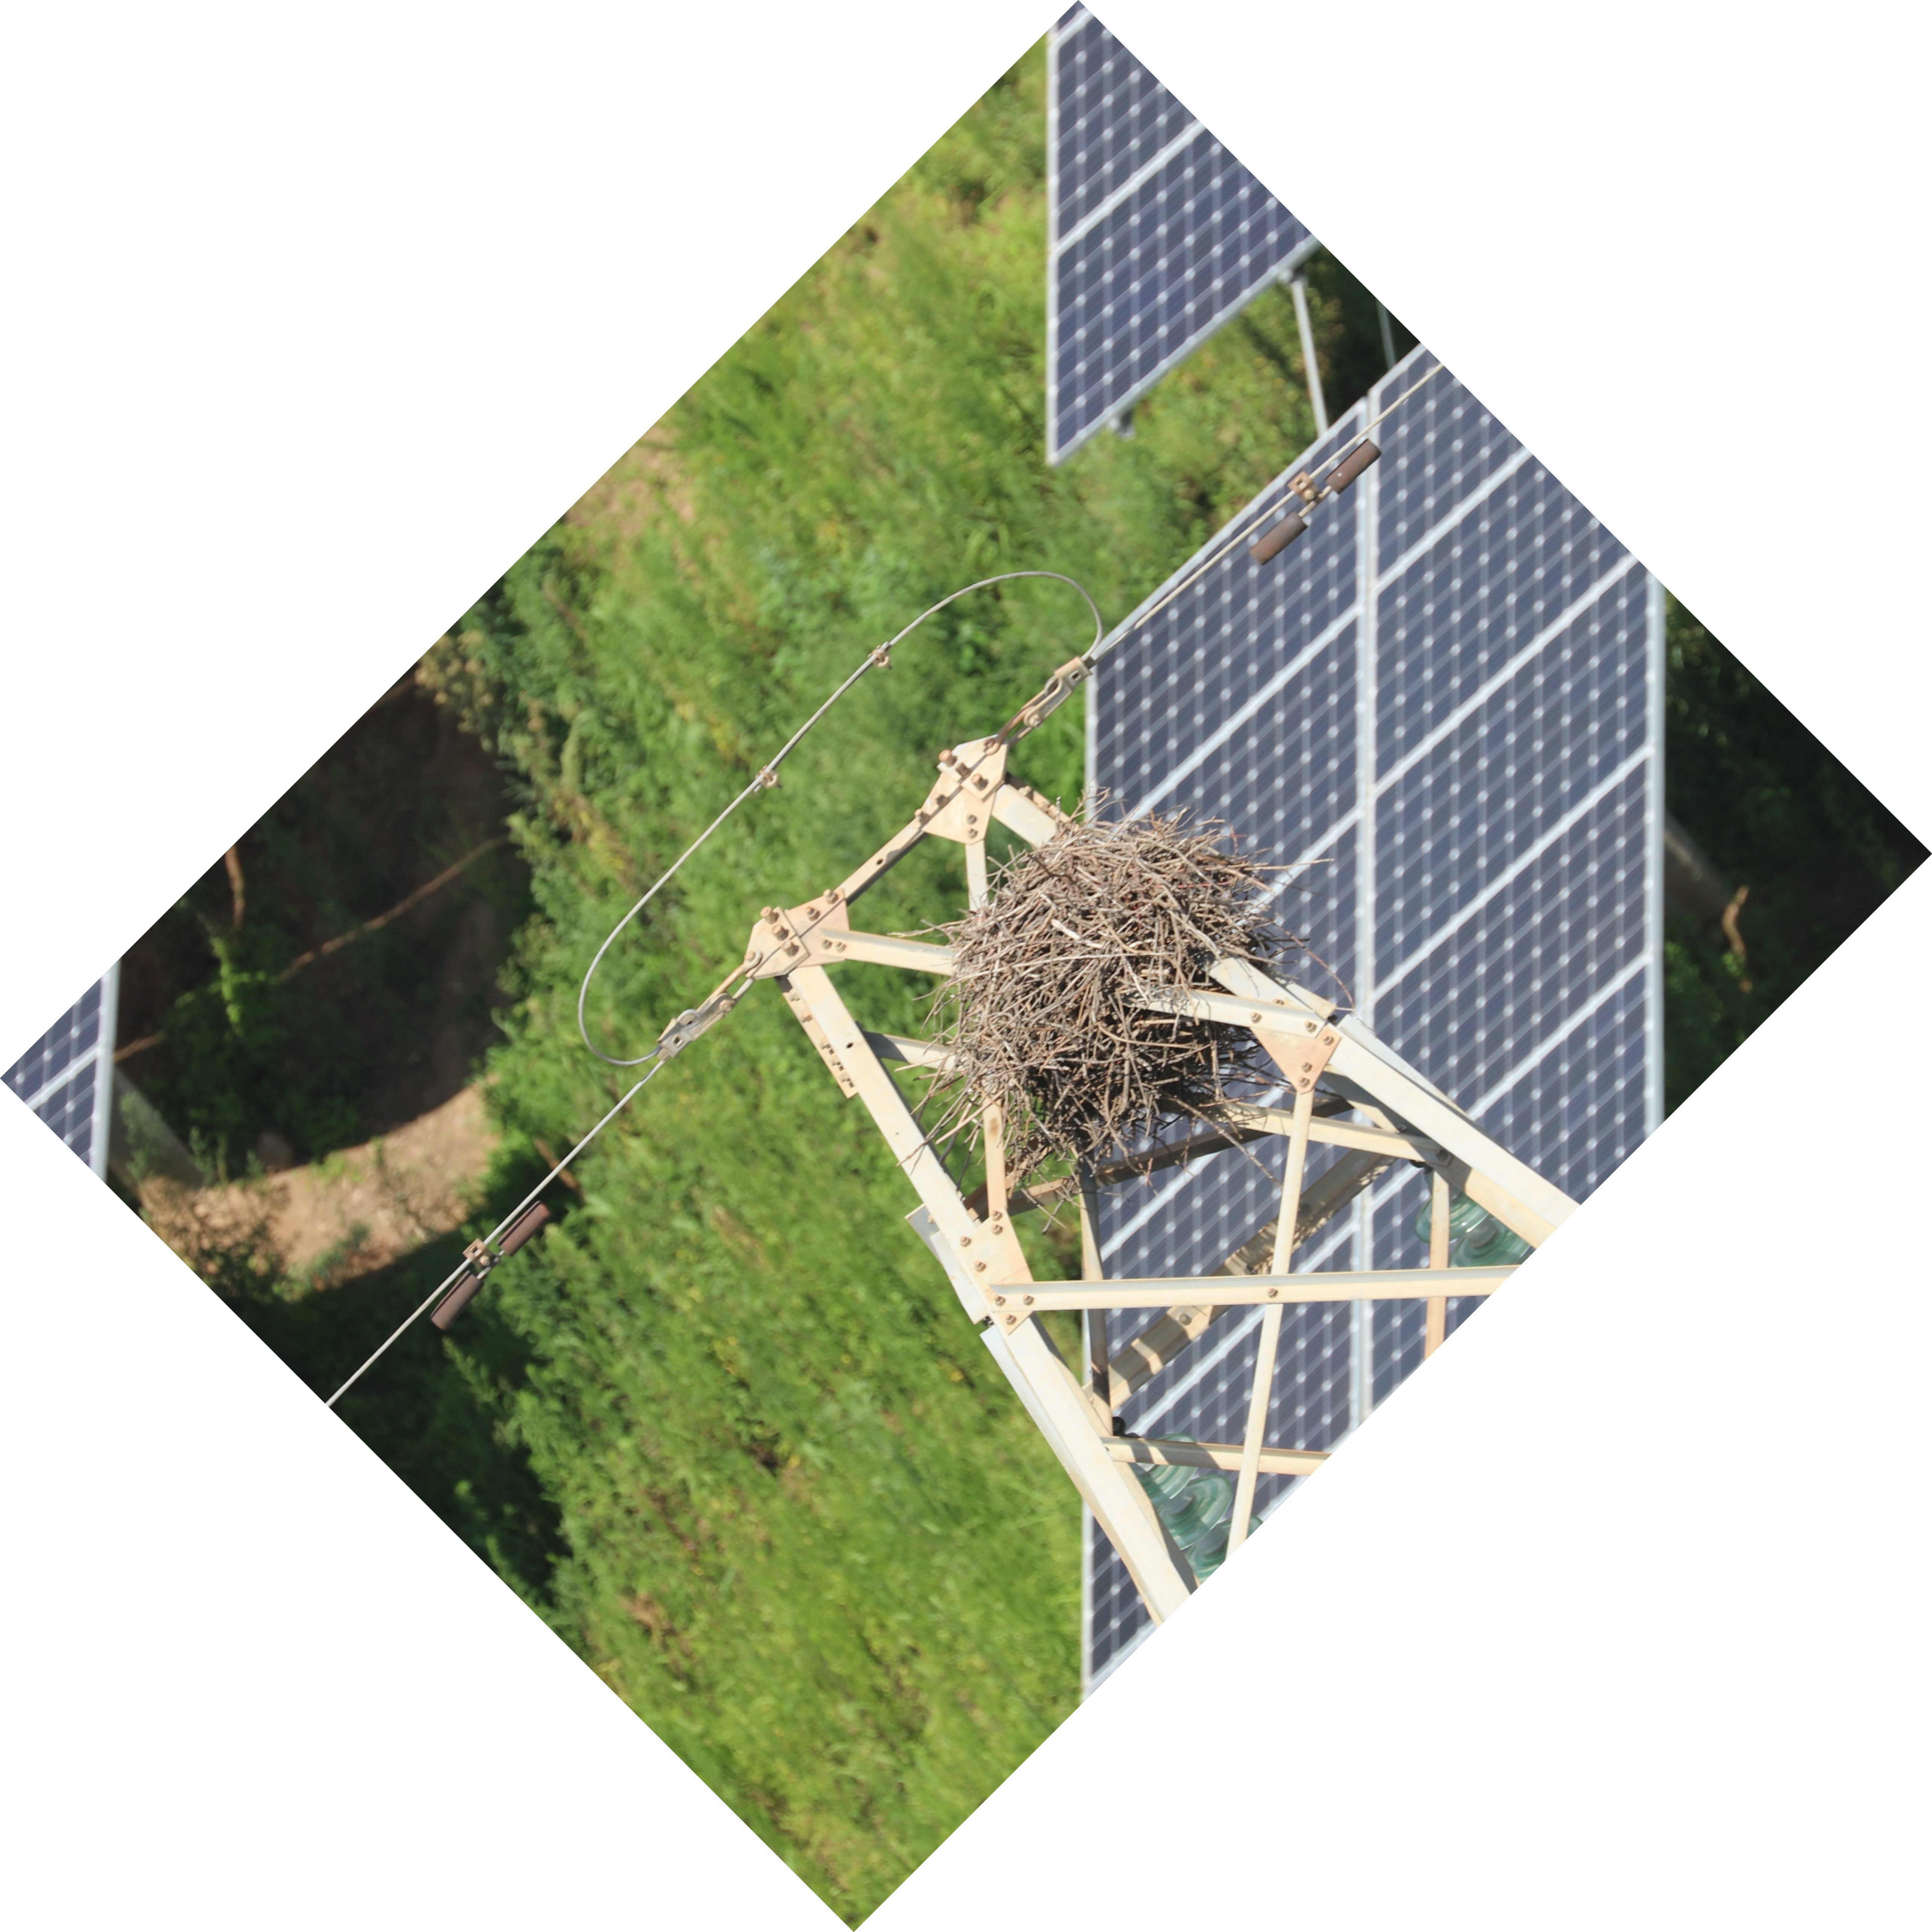niaowo: (901, 798, 1277, 1164)
